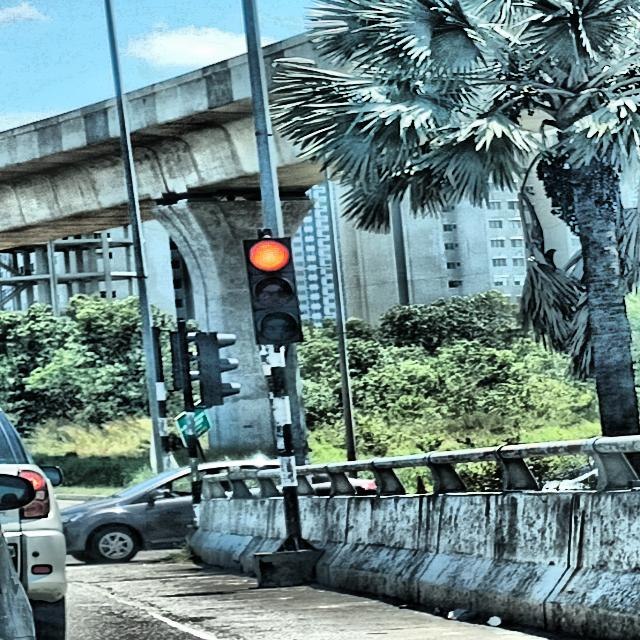red: (241, 238, 304, 345)
